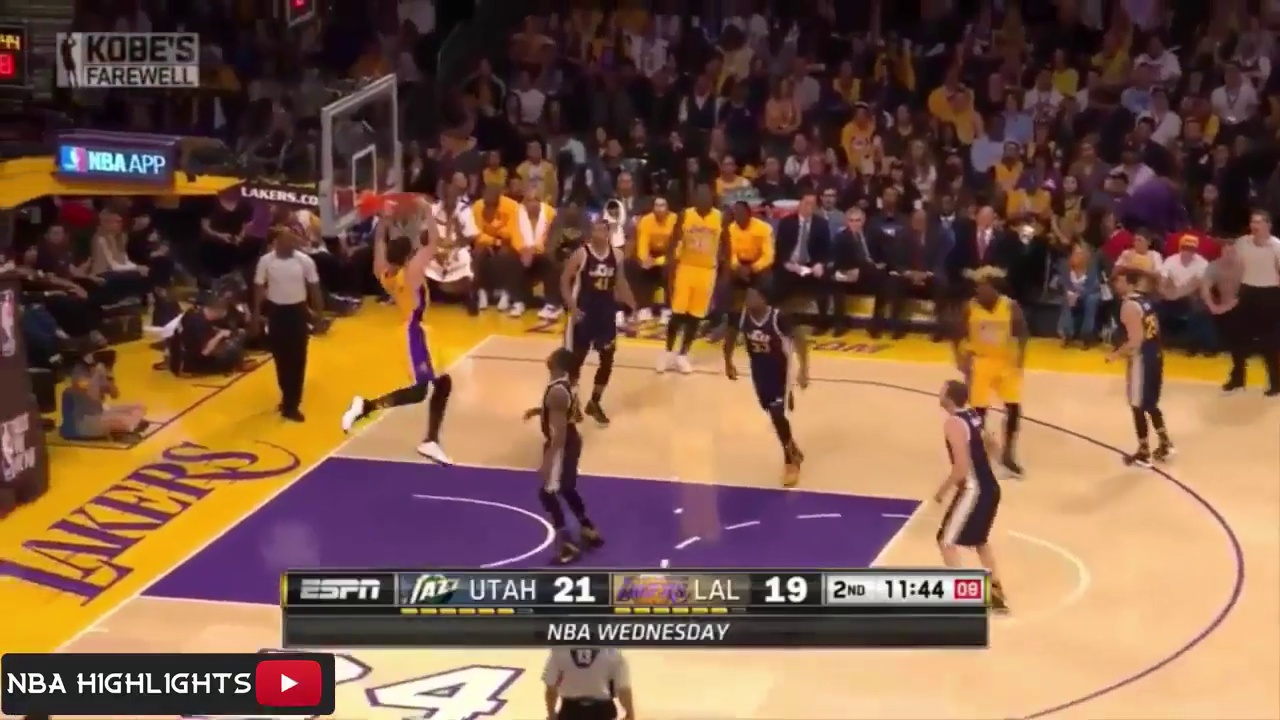jazz: (719, 288, 822, 495), (522, 341, 605, 564), (552, 217, 632, 428), (1106, 272, 1191, 468), (930, 380, 1001, 569)
lakers: (354, 204, 459, 457), (957, 280, 1036, 485), (660, 182, 735, 371)
